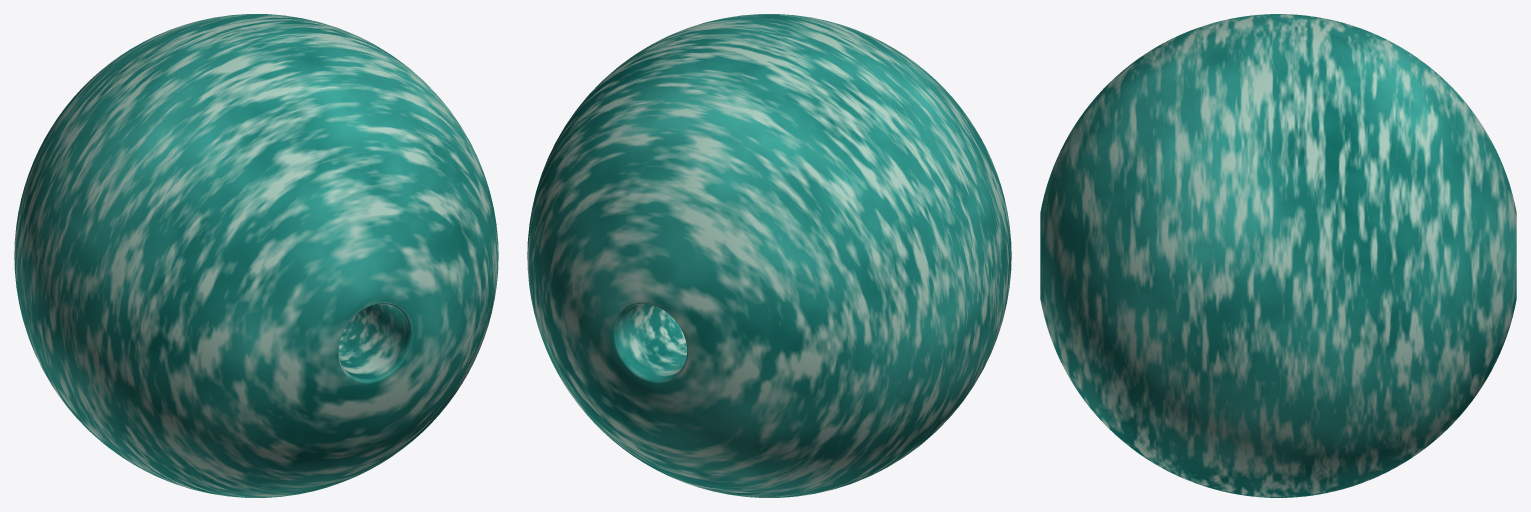
File: amazonite-6mm.glb
The picture shows the model from 3 angles, left to right: view 1: azimuth 30°, elevation 25°; view 2: azimuth 150°, elevation 25°; view 3: azimuth 270°, elevation 25°; orthographic projection.
Parts seen in each view (by area): view 1: amazonite.001; view 2: amazonite.001; view 3: amazonite.001.
Boxes of the visible parts, x1=… form: amazonite.001: x1=14, y1=14, x2=498, y2=497; amazonite.001: x1=527, y1=14, x2=1011, y2=497; amazonite.001: x1=1040, y1=14, x2=1516, y2=497.
Bounding box in the file's own units: 0.006 × 0.006 × 0.0059.
Materials: 1 (1 with a texture image).
